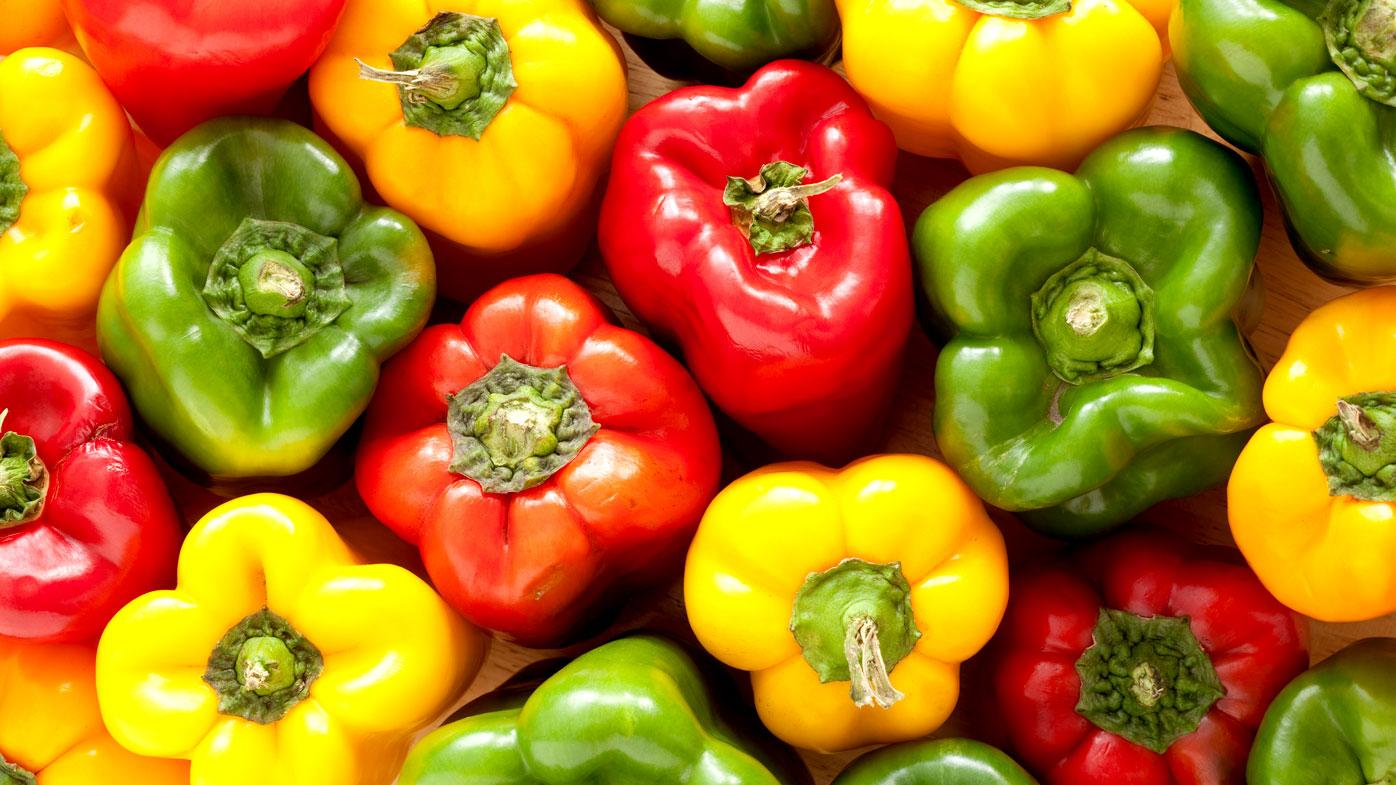capsicum: (3, 1, 1391, 781), (911, 123, 1269, 535), (353, 271, 722, 646), (596, 58, 915, 459), (93, 113, 436, 481), (93, 490, 486, 782), (682, 451, 1010, 753), (306, 0, 629, 296), (983, 527, 1309, 782), (393, 632, 795, 783), (1225, 282, 1394, 622), (836, 0, 1164, 175)
